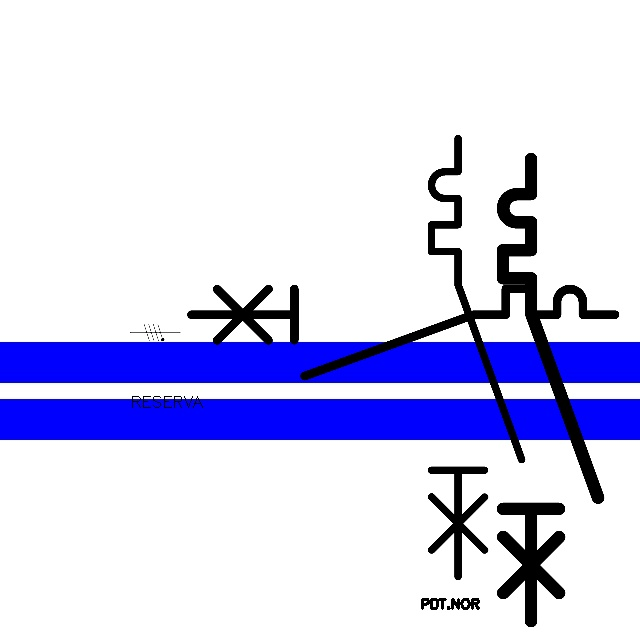interruptor_termomagnetico: (491, 147, 610, 633), (420, 127, 533, 588), (180, 278, 625, 387)
